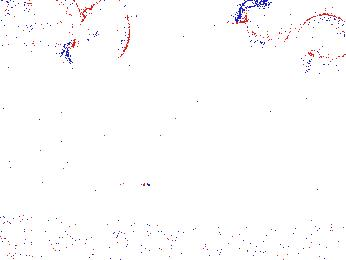moon jellyfish: (65, 1, 131, 73), (293, 14, 346, 67), (238, 1, 293, 50), (24, 1, 83, 46), (1, 28, 24, 96)
